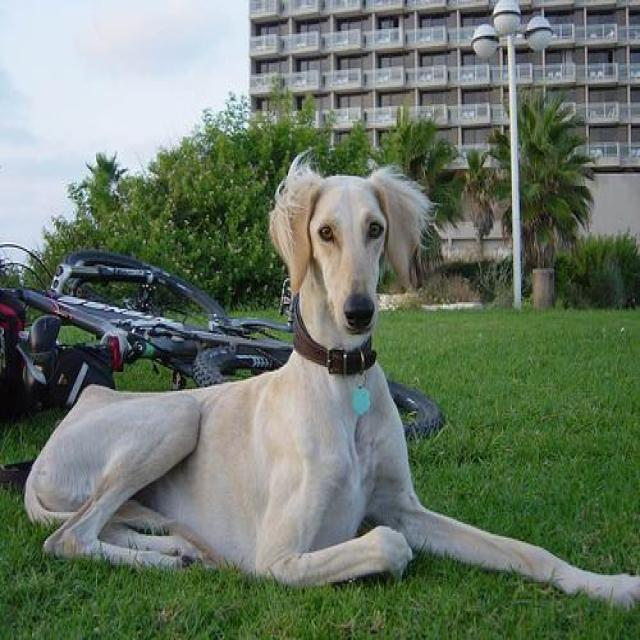saluki: (22, 150, 637, 613)
